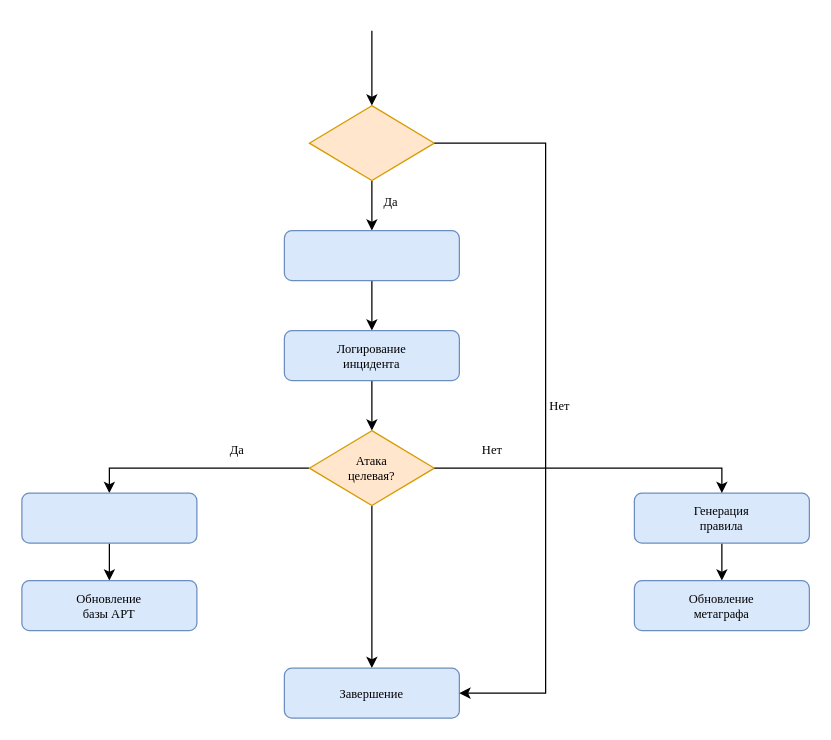
Image size: 831x740. Some labels were removed from this diagram. Here are the shapes that lost their labels. From the top down, the centre of each, then its label:
At [371,142]: "Подтверждено аналитиком?".
At [371,255]: "Реагирование".
At [109,517]: "Анализ APT-профиля".
